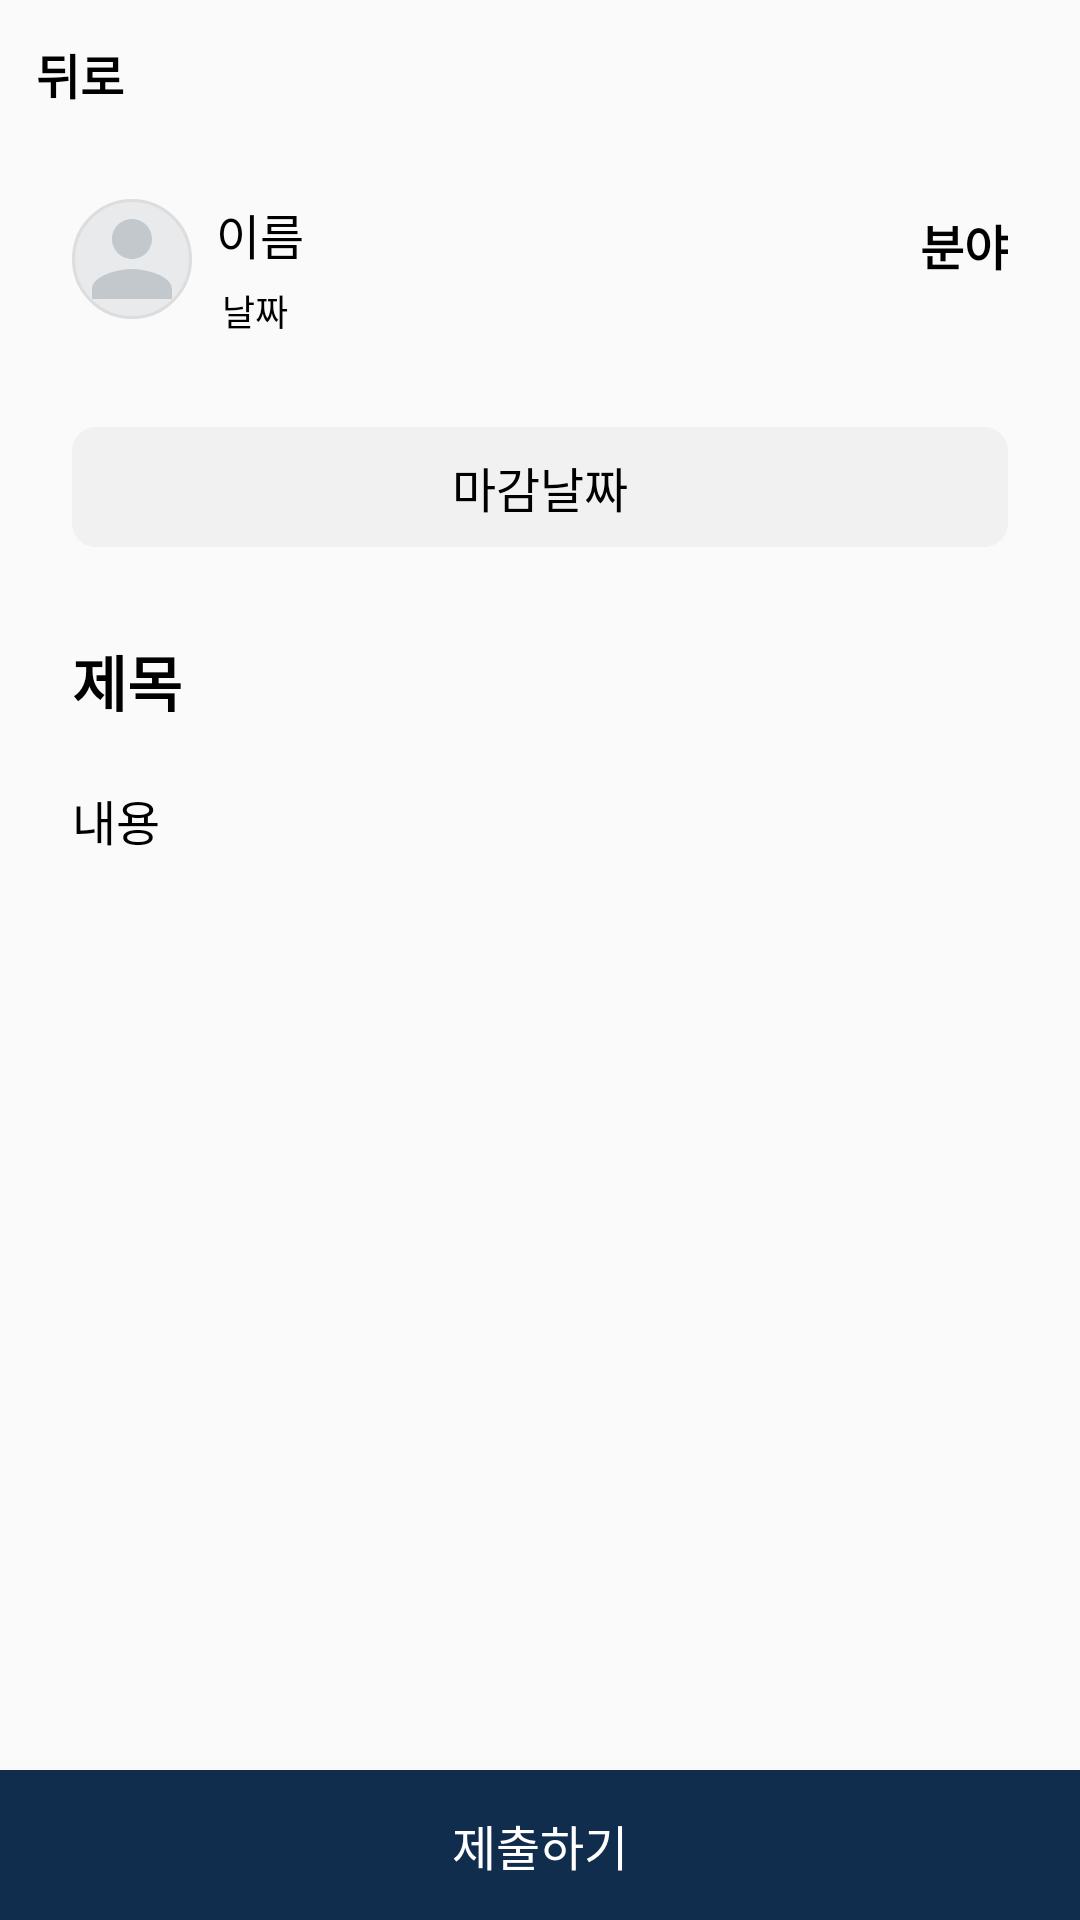

Icons on this 1080*1920 Android screen, each with the point to tap as (x=x, y=y):
person: (x=132, y=259)
